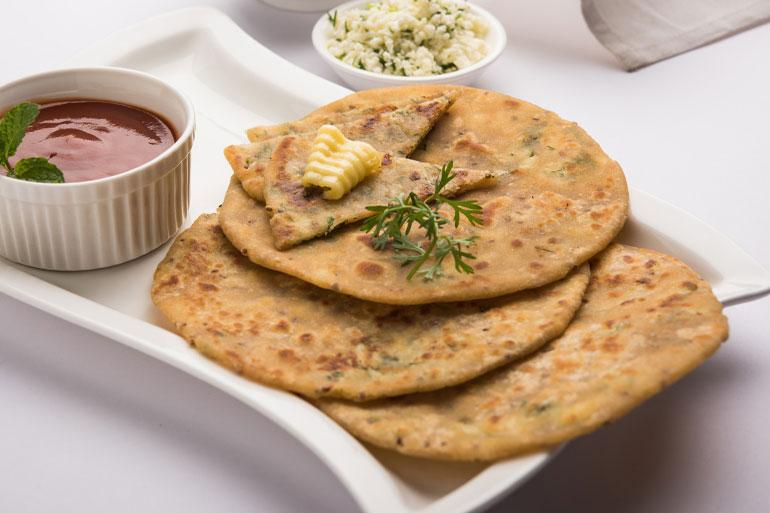paratha: (154, 187, 599, 399), (226, 100, 629, 292), (348, 262, 730, 455)
